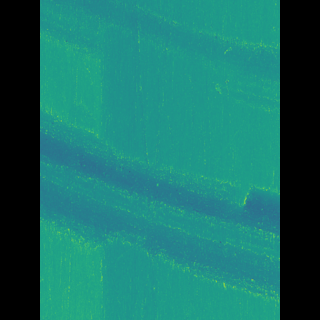Loch: (70, 109, 250, 306), (69, 0, 250, 112)
